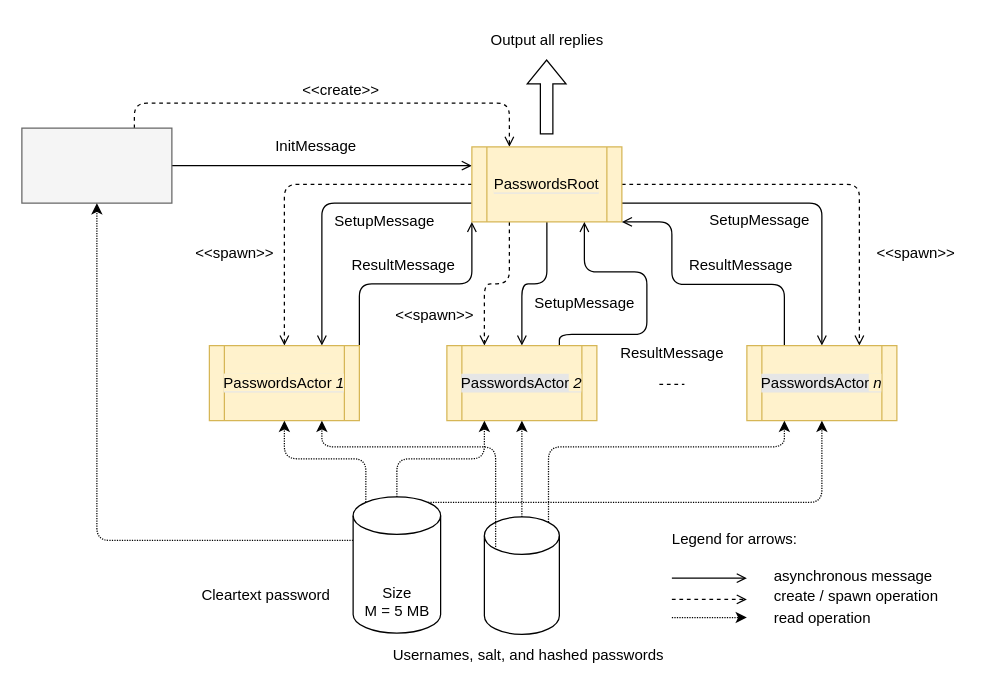
Some shapes in this 994 by 695 pixel diagram are drawn without their labels. Here are the shapes that lost their labels. From the top down, the box of each, then its label:
(21, 127, 172, 203): CrackPasswords
(483, 516, 559, 634): Size N < 100 lines
